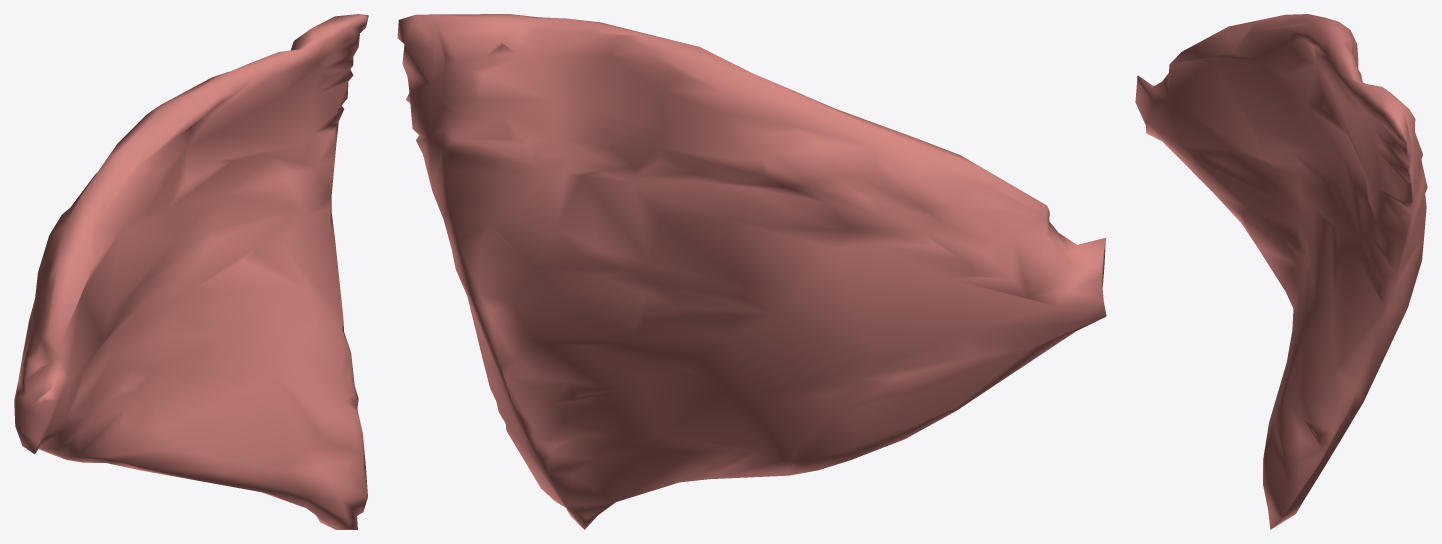
3 renders of one model, left to right at view 1: azimuth 30°, elevation 25°; view 2: azimuth 150°, elevation 25°; view 3: azimuth 270°, elevation 25°, orthographic. The views are drawn at different scales.
Parts seen in each view (by area): view 1: ZA_4b31a03d678187b2; view 2: ZA_4b31a03d678187b2; view 3: ZA_4b31a03d678187b2.
Boxes of the visible parts, left/top/right/bottom form: ZA_4b31a03d678187b2: left=14, top=14, right=368, bottom=529; ZA_4b31a03d678187b2: left=397, top=14, right=1106, bottom=529; ZA_4b31a03d678187b2: left=1135, top=14, right=1427, bottom=529.
Bounding box in the file's own units: 0.0427 × 0.0394 × 0.0233.
